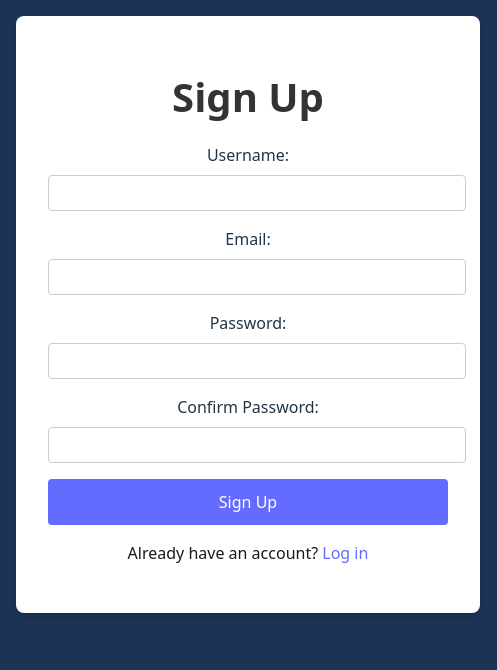
it: SignUp Component › shows error when passwords do not match
The image size is (497, 670).
// Test of filling out the form
In the field labelled "Username:": x=257, y=193 left=48, top=175, right=466, bottom=211, type "testuser"
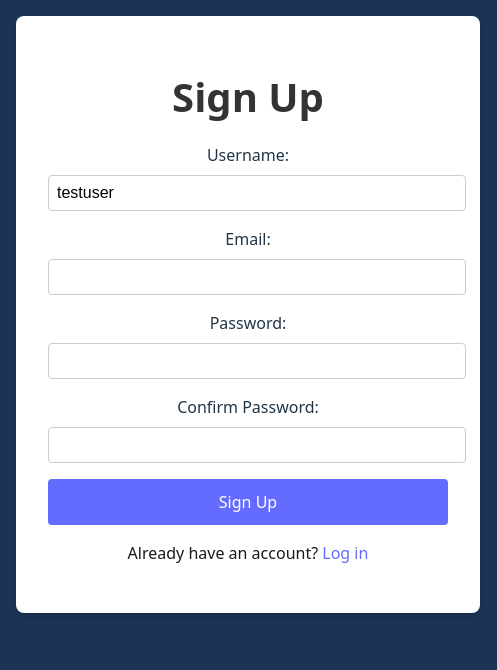
In the field labelled "Email:": x=257, y=277 left=48, top=259, right=466, bottom=295, type "test@example.com"
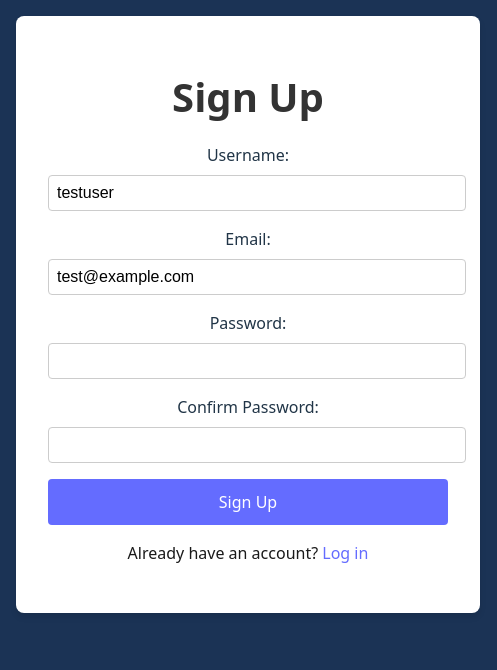
In the password field labelled "Password:": x=257, y=361 left=48, top=343, right=466, bottom=379, type "password123"
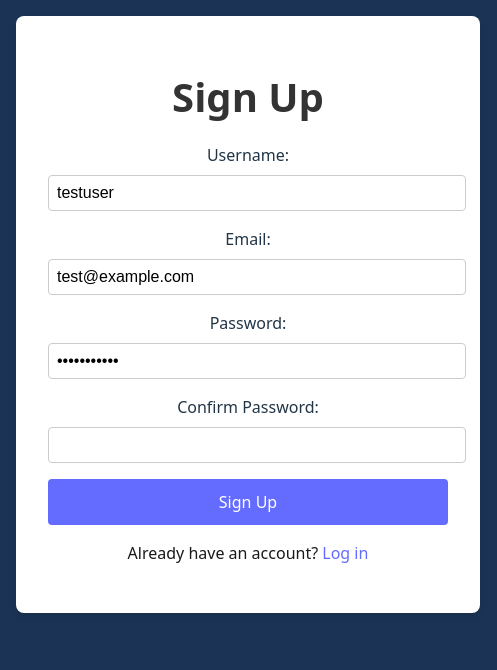
In the password field labelled "Confirm Password:": x=257, y=445 left=48, top=427, right=466, bottom=463, type "differentpassword"
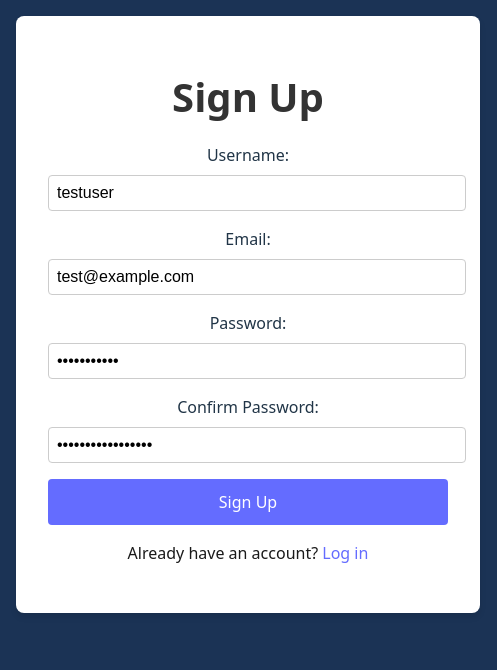
// Submit the form
Click the button "Sign Up": x=248, y=502 left=48, top=479, right=448, bottom=525
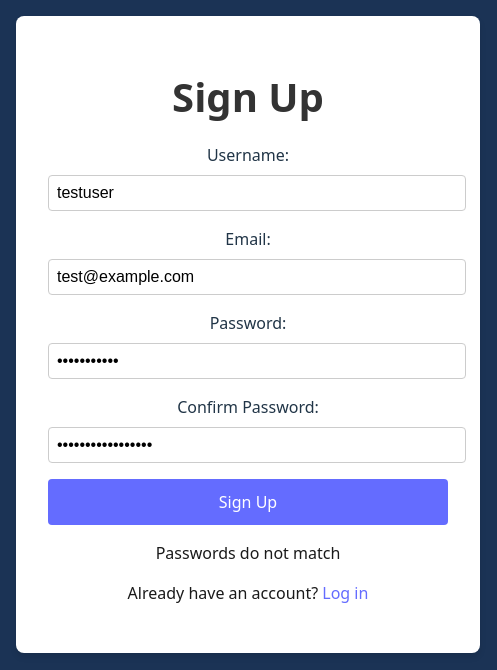
Result: the text with class "error-message" reads "Passwords do not match" at left=156, top=542, right=340, bottom=564
